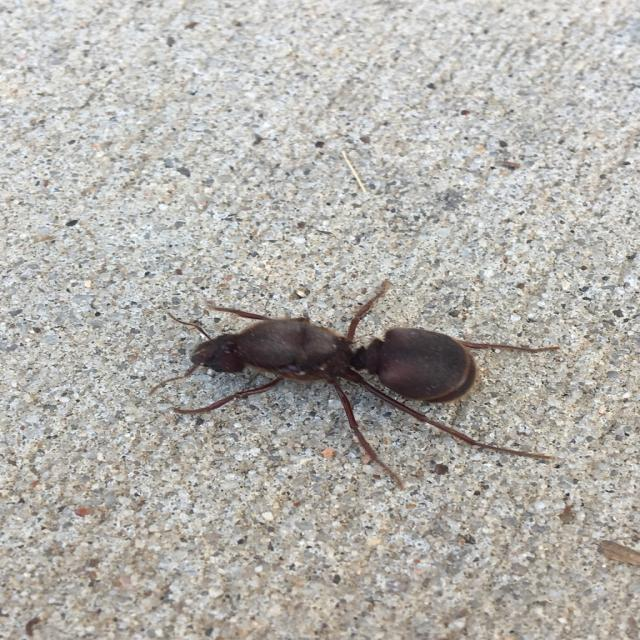Alive-Female-Dealate: (147, 279, 561, 491)
